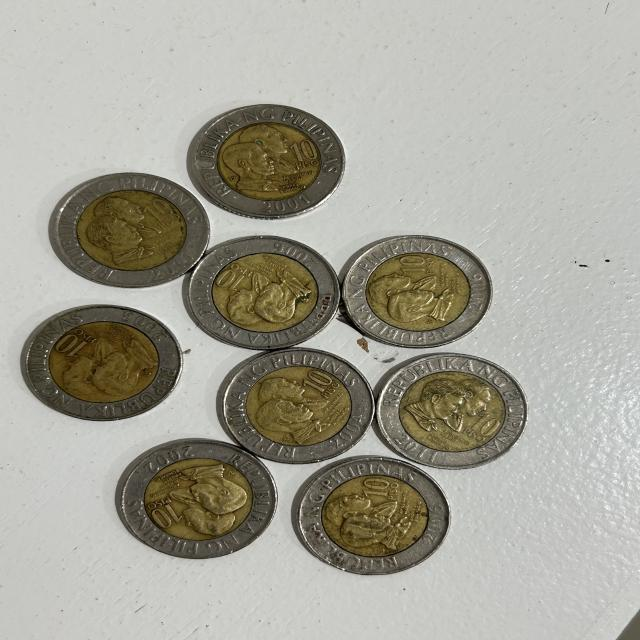10_Old_Front: (50, 327, 102, 358), (141, 492, 182, 530), (136, 195, 180, 230), (286, 138, 326, 174), (296, 368, 340, 400), (462, 412, 501, 446), (391, 249, 435, 279), (354, 478, 404, 504), (213, 261, 248, 293)
